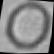no answer: (1, 0, 54, 54)
